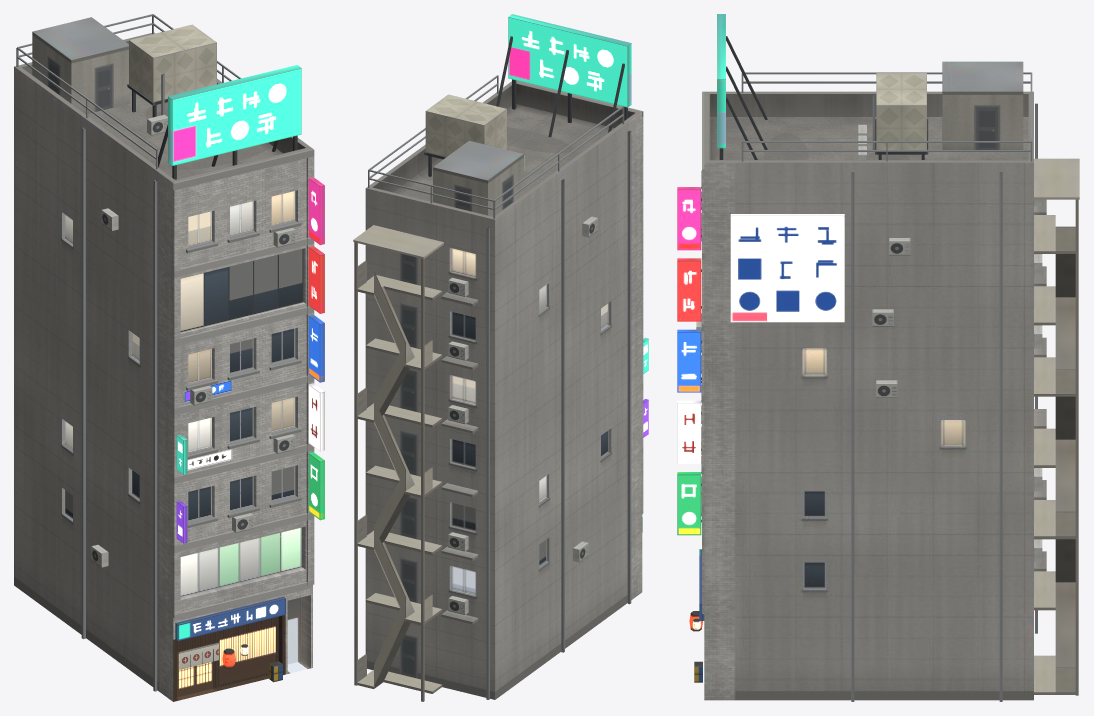
Rendered from tokyo_zakkyo_a.glb.
3 renders of one model, left to right at view 1: azimuth 30°, elevation 25°; view 2: azimuth 150°, elevation 25°; view 3: azimuth 270°, elevation 25°, orthographic. The views are drawn at different scales.
Visible parts, largest first — view 1: tokyo_zakkyo_a; view 2: tokyo_zakkyo_a; view 3: tokyo_zakkyo_a.
Boxes of the visible parts, x1,y1,x2,y2 form: tokyo_zakkyo_a: [14, 14, 324, 701]; tokyo_zakkyo_a: [353, 14, 648, 701]; tokyo_zakkyo_a: [677, 14, 1079, 701].
Size of the model in its own units: 7.24 by 26.9 by 15.87.
1 material, 1 textured.
